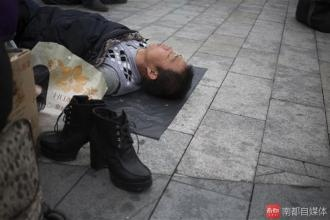falling: (8, 1, 193, 97)
